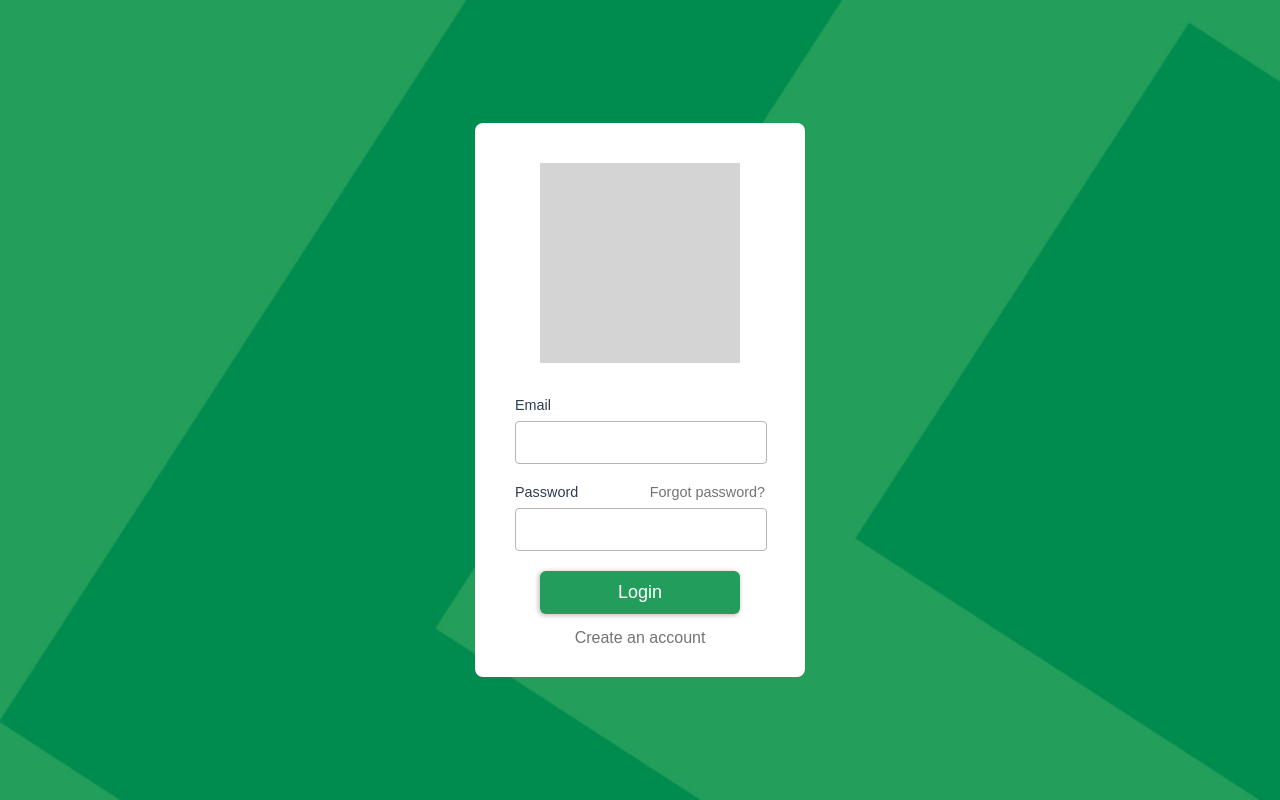
Test: Login › should alert on input if no username was inserted
The image size is (1280, 800).
Click the button with class "t-button" at (640, 593), box [540, 571, 740, 614]
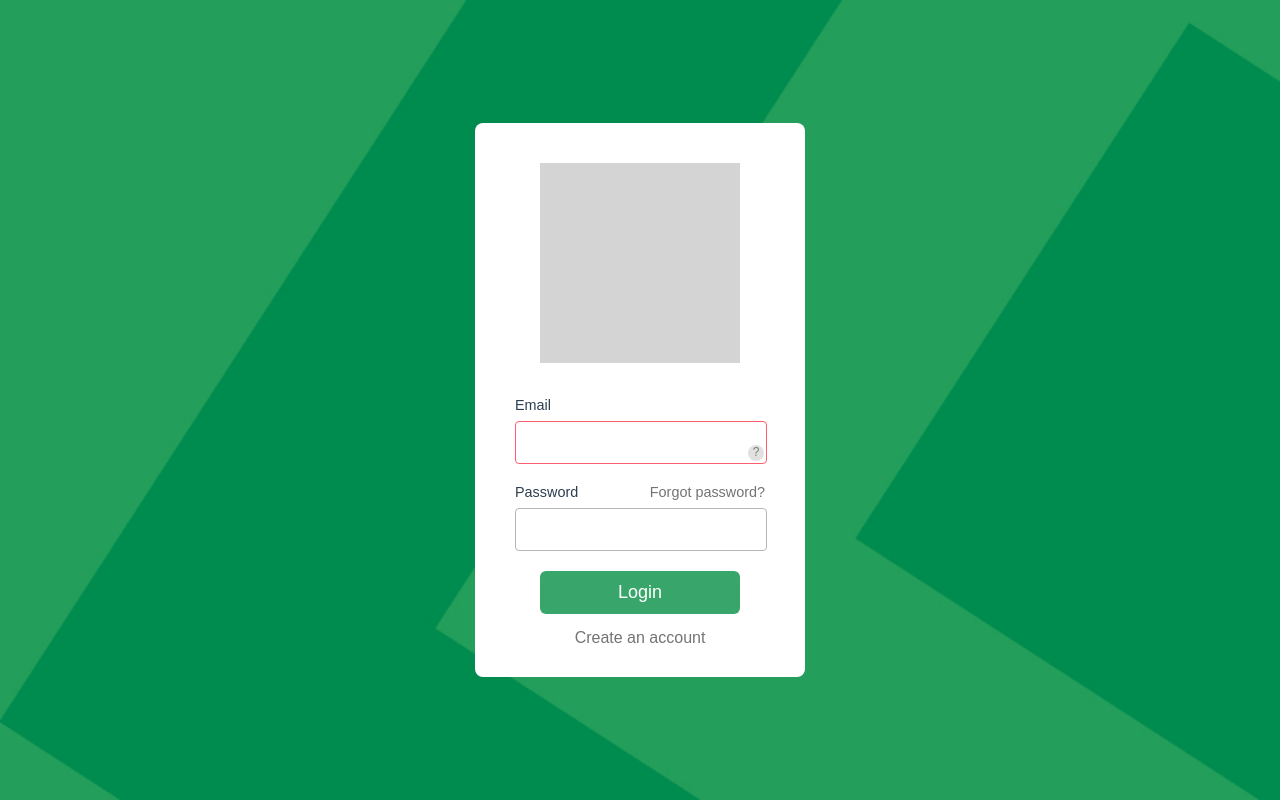
Now the field with class "t-input__input--error" is shown, box [515, 421, 767, 464]
